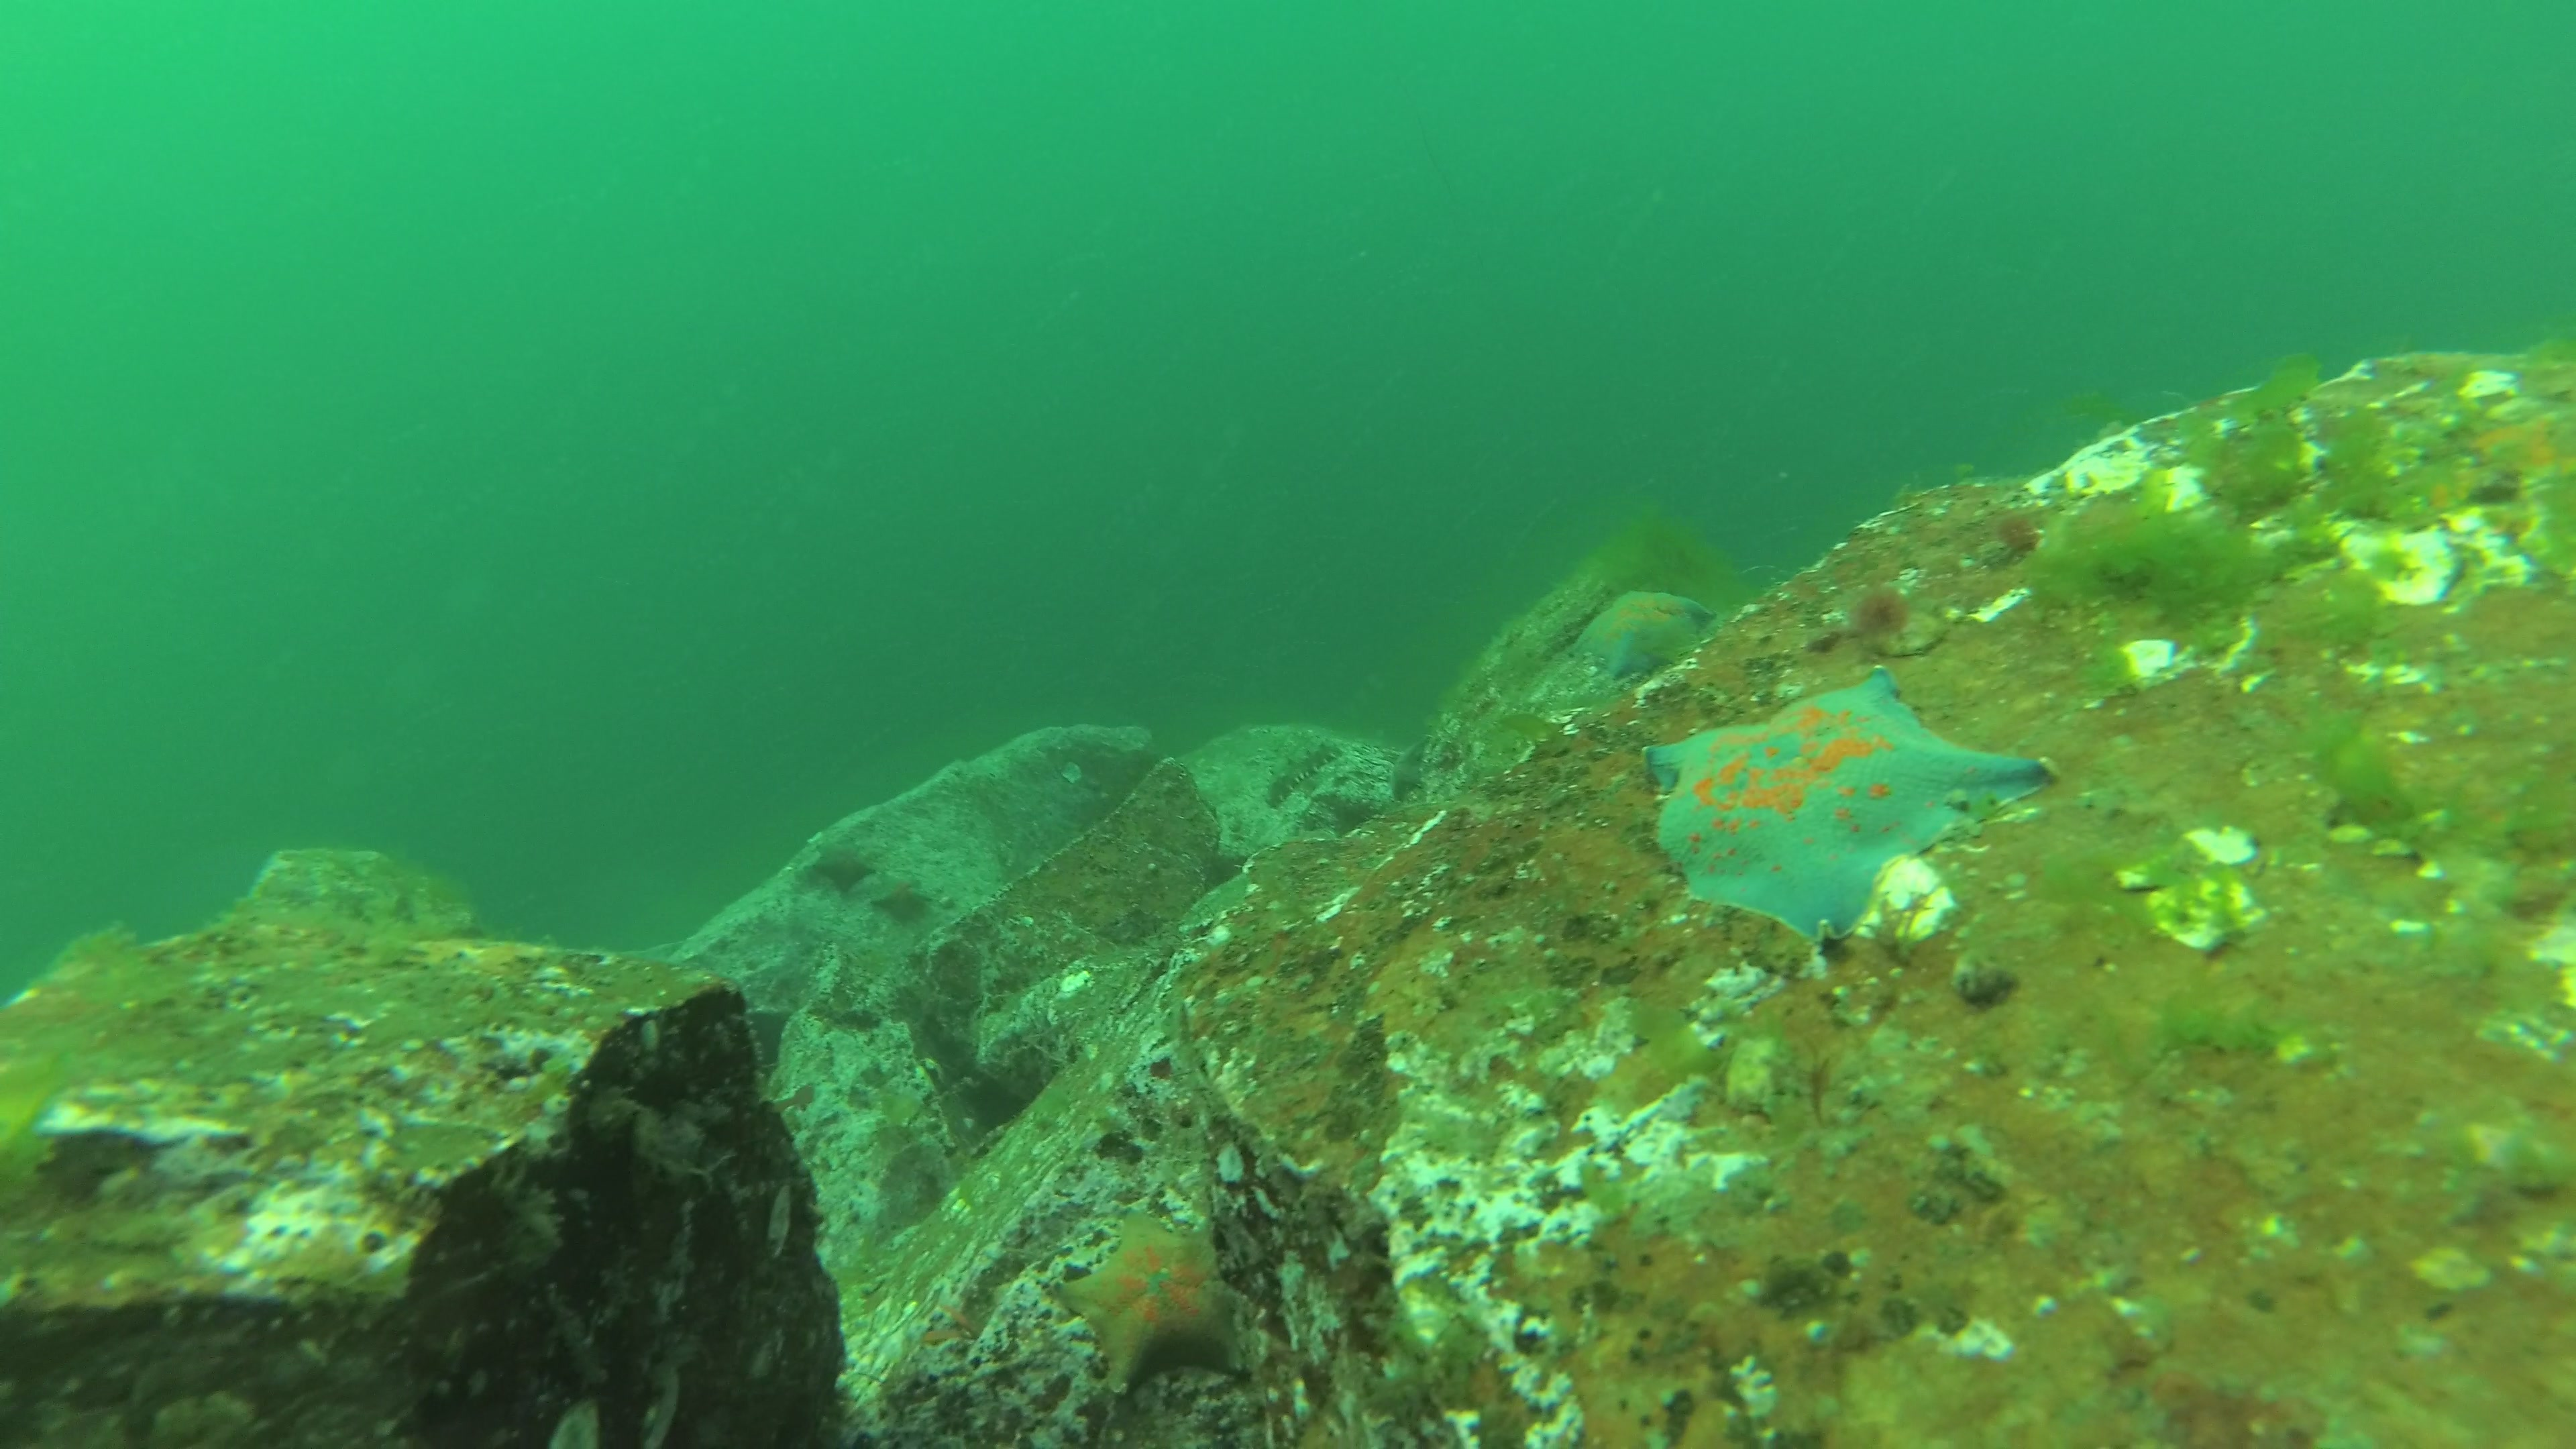holothurian: (1269, 741, 1341, 803)
starfish: (1640, 665, 2065, 950), (1054, 1205, 1247, 1396), (1569, 589, 1721, 681), (1392, 738, 1426, 801)
